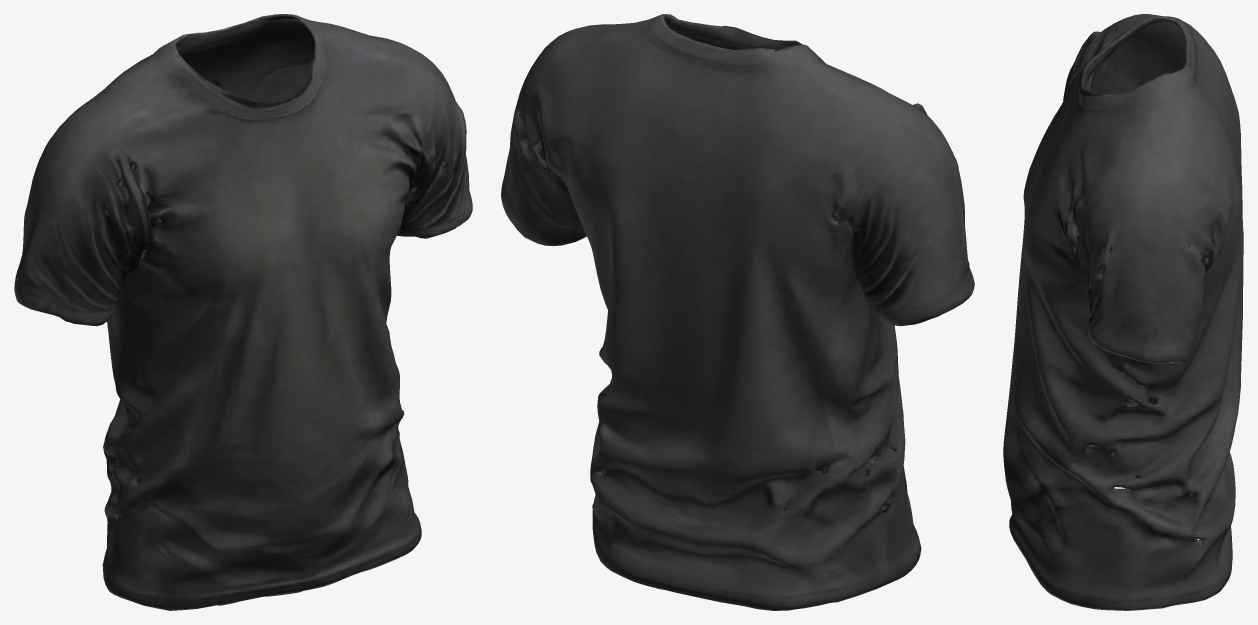
File: modelo.glb
3 views of the same model, side by side, from view 1: azimuth 30°, elevation 25°; view 2: azimuth 150°, elevation 25°; view 3: azimuth 270°, elevation 25° (orthographic). The views are drawn at different scales.
Bounding box in the file's own units: 1.77 × 2 × 0.8523.
Materials: 1 (1 with a texture image).
